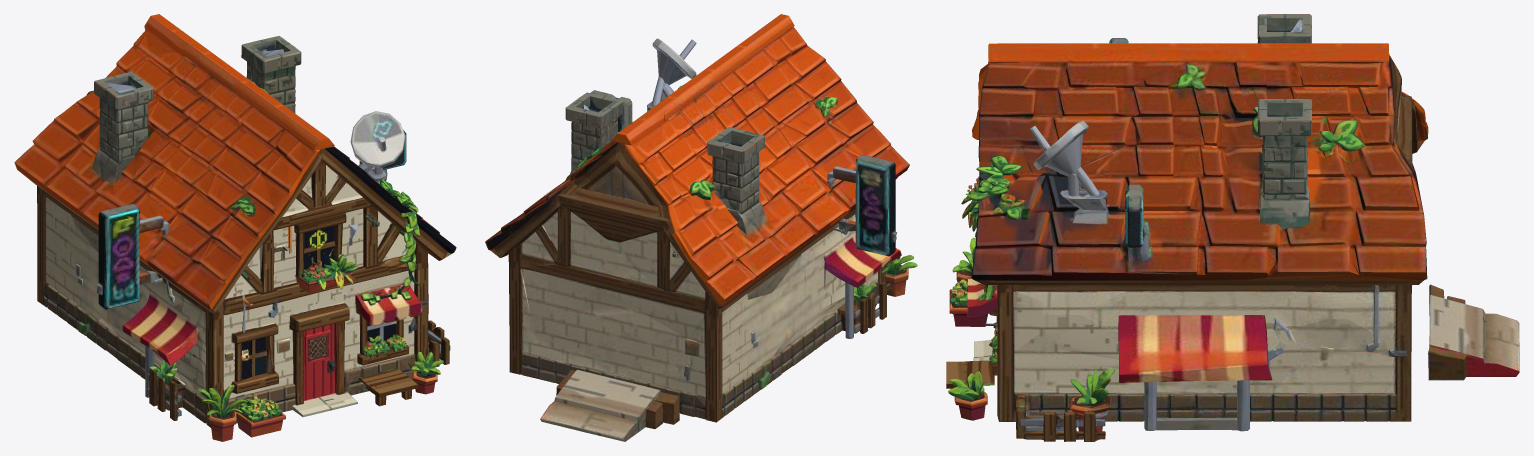
The model's file is home.glb.
3 renders of one model, left to right at view 1: azimuth 30°, elevation 25°; view 2: azimuth 150°, elevation 25°; view 3: azimuth 270°, elevation 25°, orthographic. The views are drawn at different scales.
Size of the model in its own units: 11 by 8.6 by 14.12.
1 material, 1 textured.
